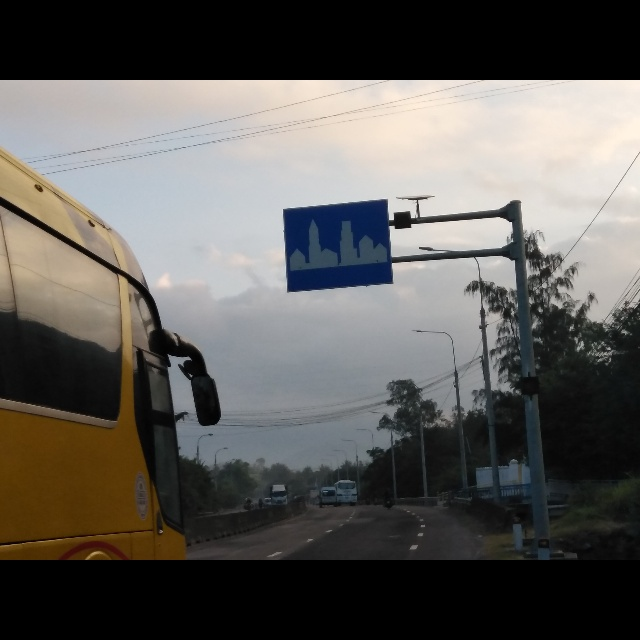Khu đông dân cư: (278, 195, 395, 294)
